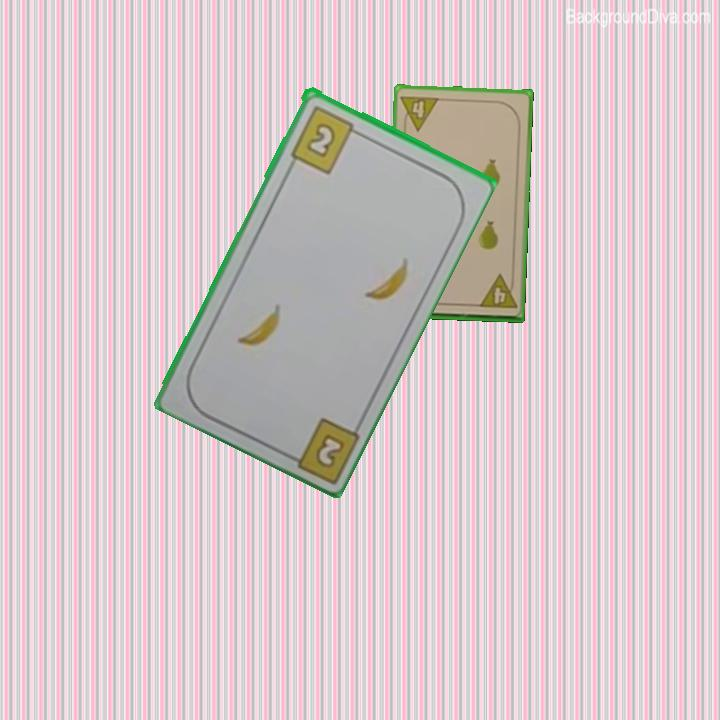2b: (286, 101, 364, 176), (311, 429, 347, 471)
4p: (397, 92, 442, 133), (475, 272, 520, 311)
